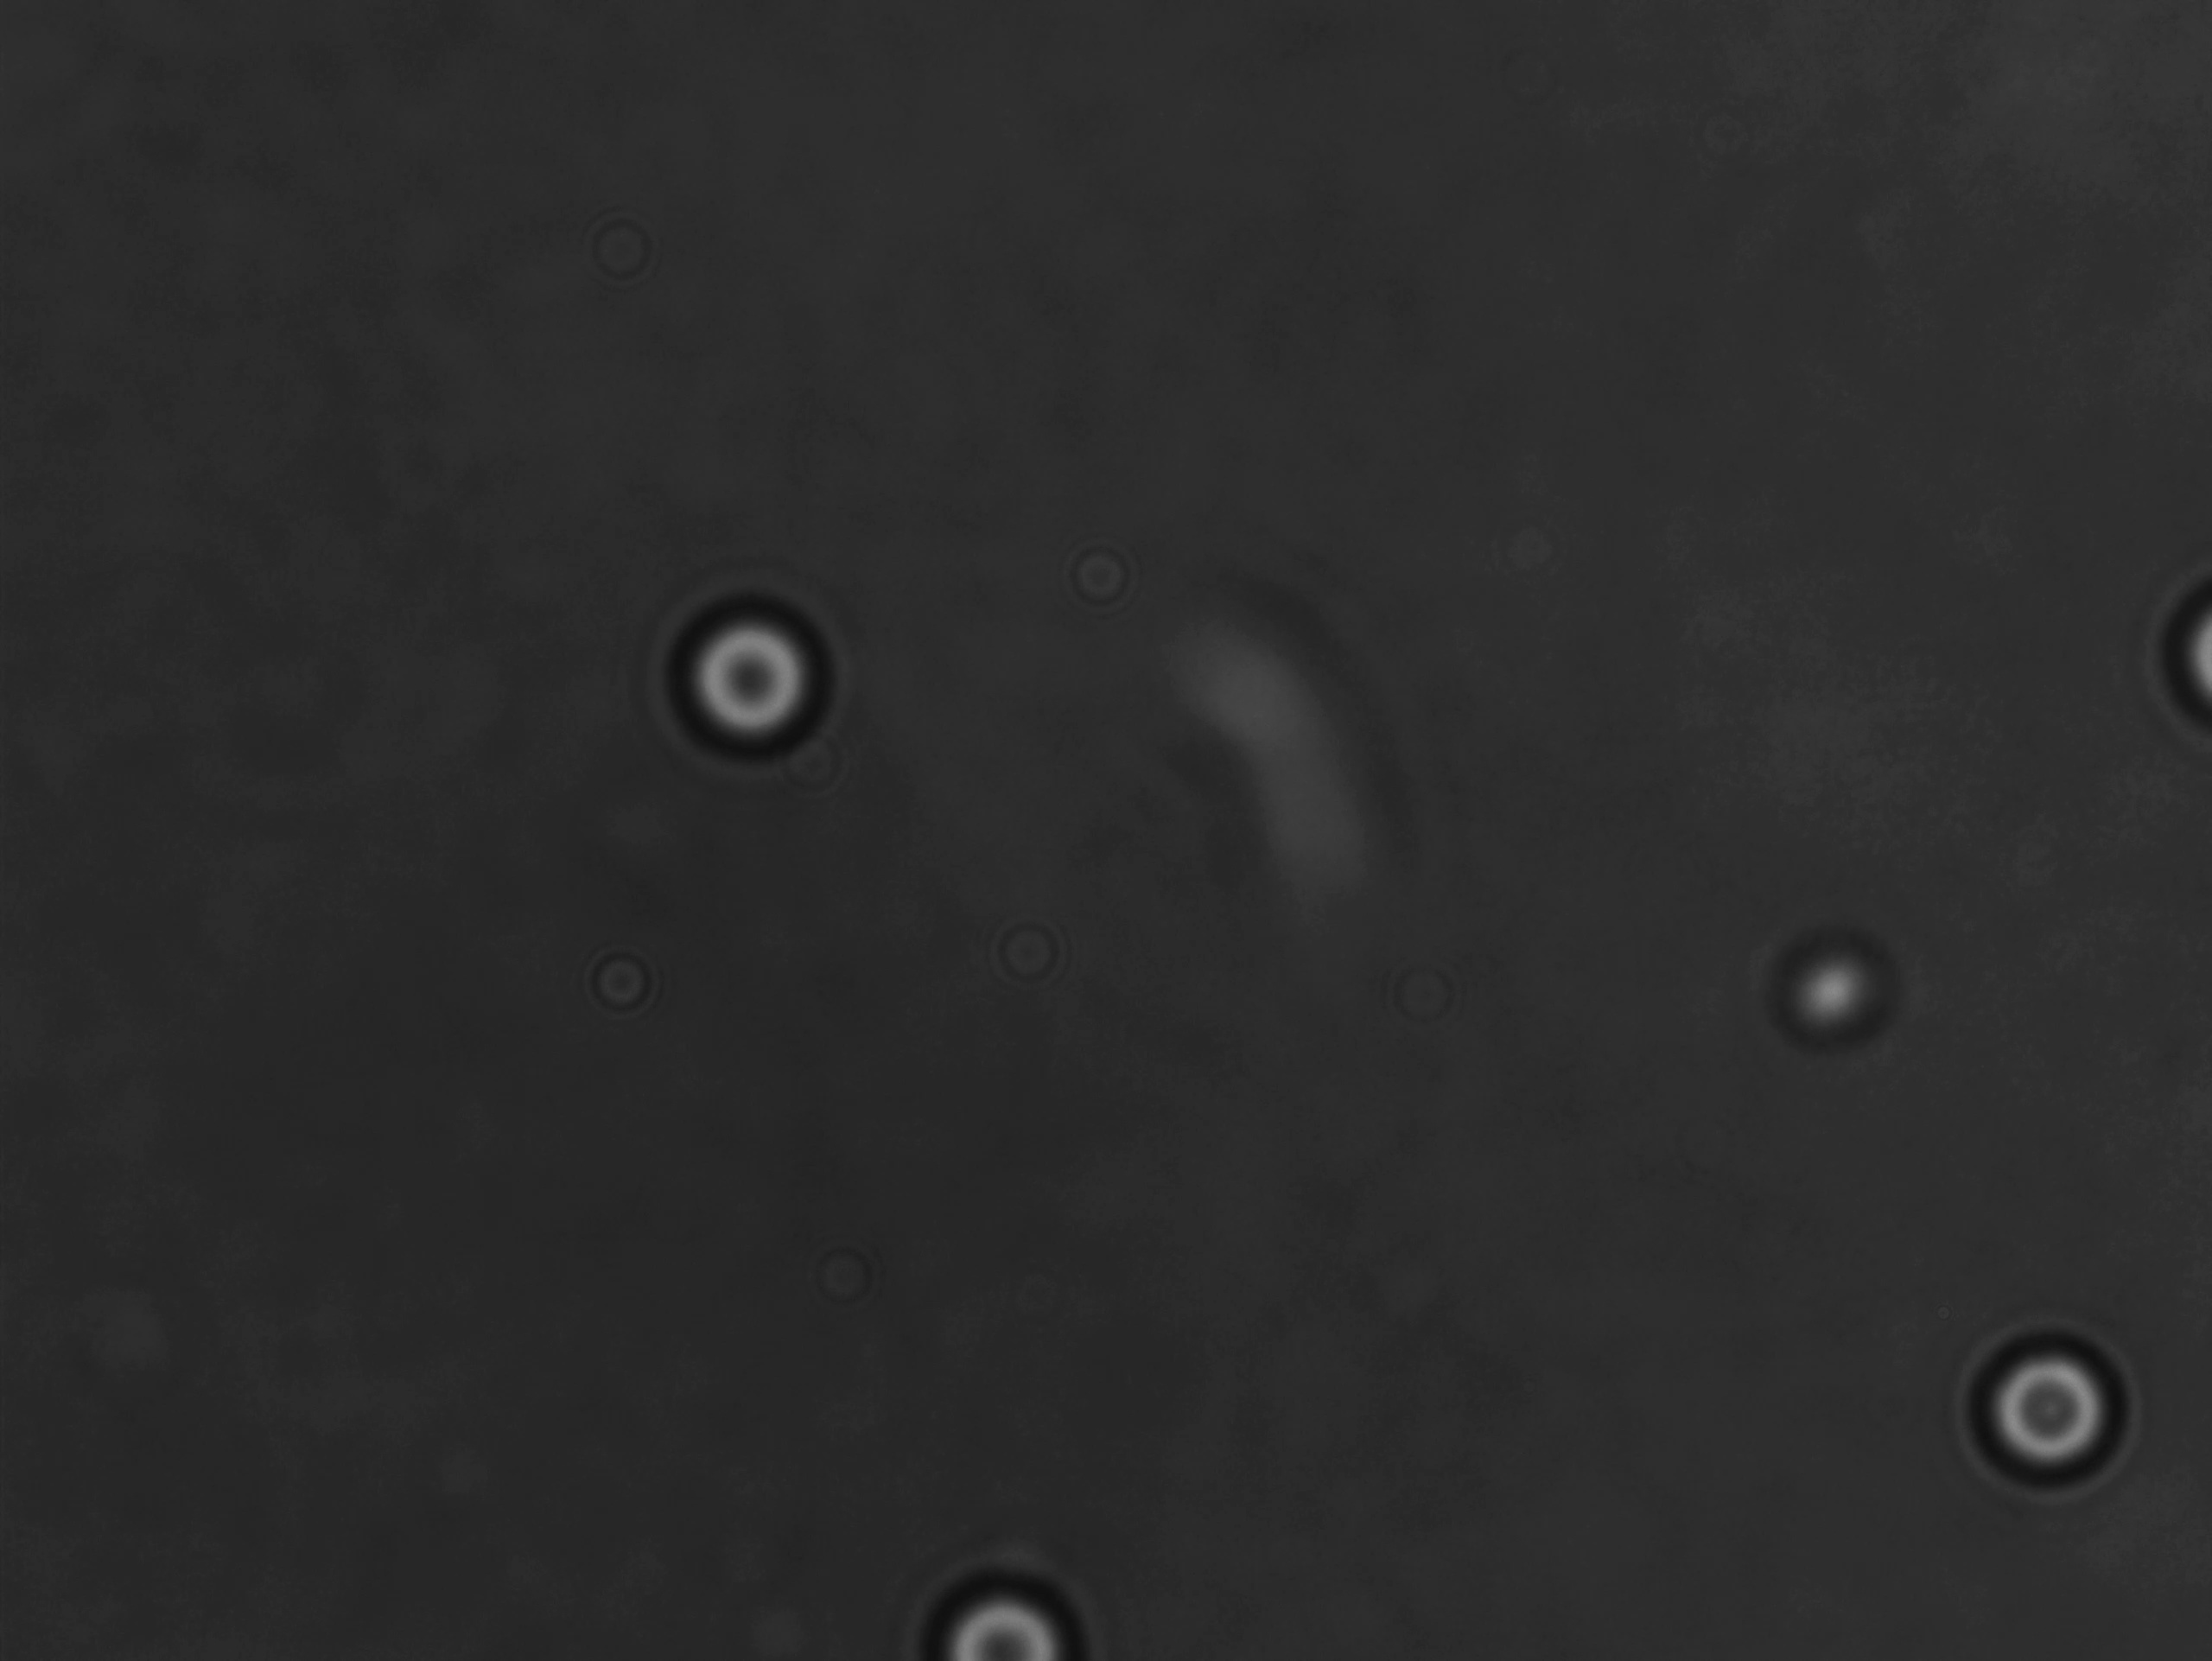depth:40: (652, 574, 872, 780), (1936, 1323, 2154, 1500)
